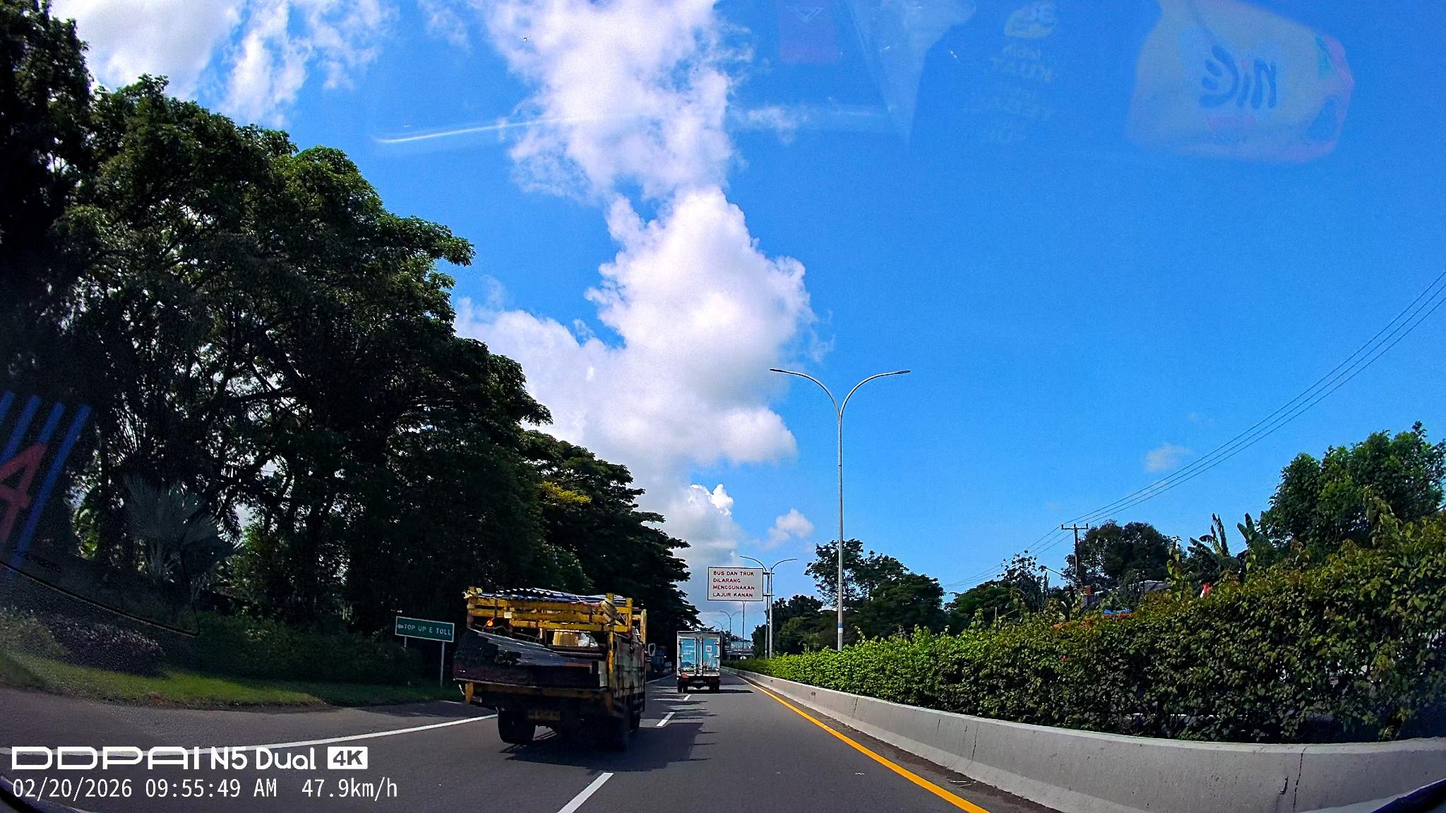rambu_teks: (706, 566, 764, 602)
